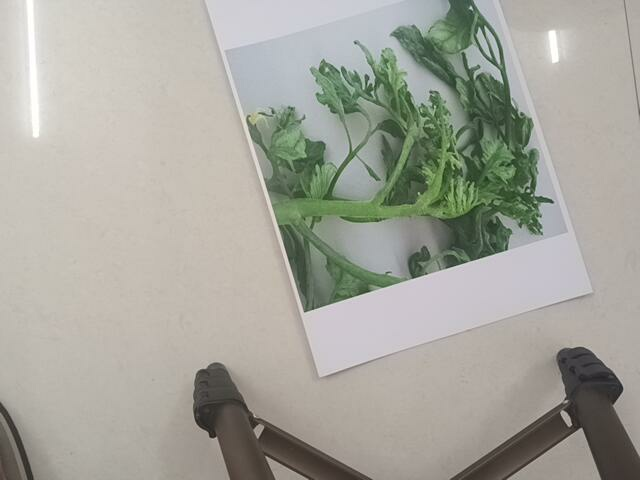Tomamto_Mosaic_virus: (246, 48, 549, 241)
